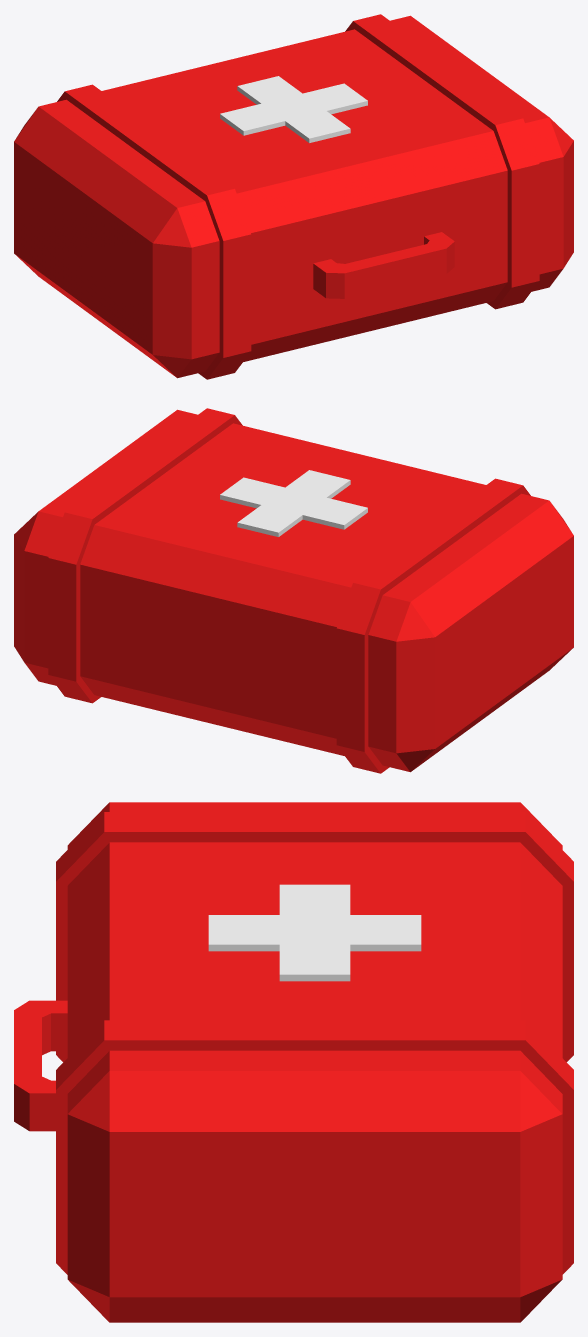
File: CO_medkit_temp.fbx
3 views of the same model, one above another, from view 1: azimuth 30°, elevation 25°; view 2: azimuth 150°, elevation 25°; view 3: azimuth 270°, elevation 25° (orthographic). The views are drawn at different scales.
Visible parts, largest first — view 1: medkit; view 2: medkit; view 3: medkit.
Boxes of the visible parts, left/top/right/bottom form: medkit: left=14, top=14, right=573, bottom=379; medkit: left=14, top=408, right=573, bottom=773; medkit: left=14, top=802, right=573, bottom=1322.
Bounding box in the file's own units: 1 × 0.4194 × 0.7805.
